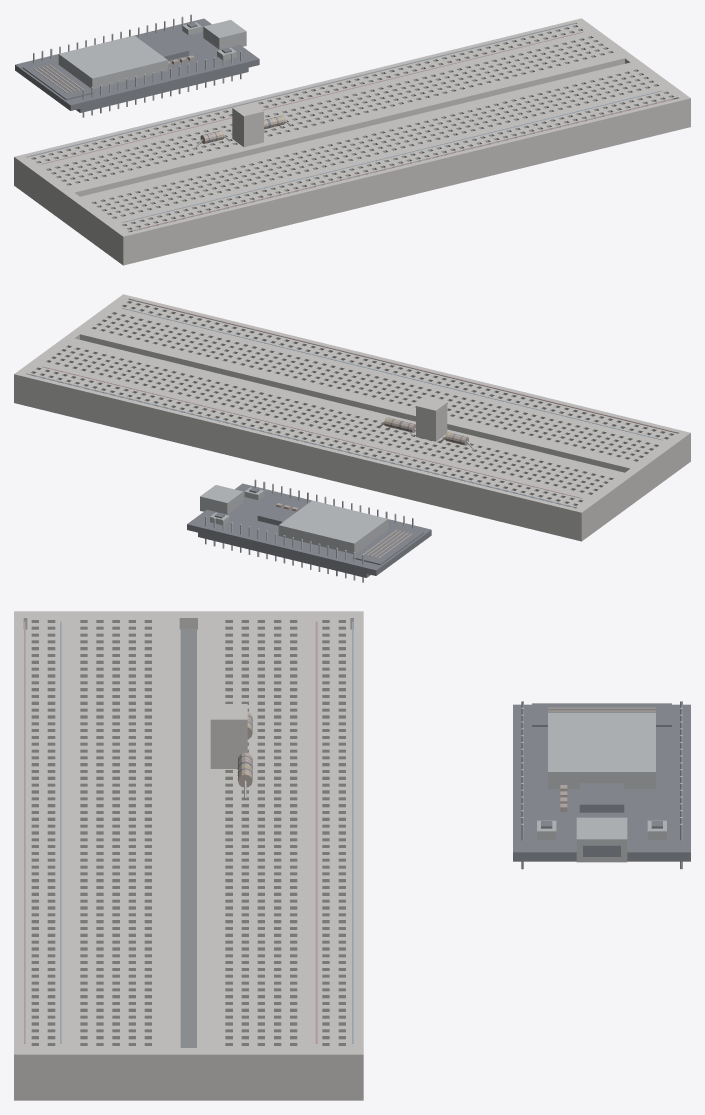
File: step-4.glb
3 views of the same model, one above another, from view 1: azimuth 30°, elevation 25°; view 2: azimuth 150°, elevation 25°; view 3: azimuth 270°, elevation 25° (orthographic). The views are drawn at different scales.
Parts seen in each view (by area): view 1: breadboard__mesh, arduino__mesh, rgb_led__mesh; view 2: breadboard__mesh, arduino__mesh, rgb_led__mesh; view 3: breadboard__mesh, arduino__mesh, rgb_led__mesh.
Part boxes in pixels (box(x1,y1,x2,y2)): breadboard__mesh: box(14, 18, 690, 265); arduino__mesh: box(15, 14, 259, 117); rgb_led__mesh: box(232, 103, 263, 147); breadboard__mesh: box(14, 294, 690, 541); arduino__mesh: box(187, 479, 431, 582); rgb_led__mesh: box(416, 397, 447, 441); breadboard__mesh: box(14, 611, 363, 1100); arduino__mesh: box(513, 701, 690, 869); rgb_led__mesh: box(210, 704, 247, 768).
Bounding box in the file's own units: 0.165 × 0.0166 × 0.1065.
